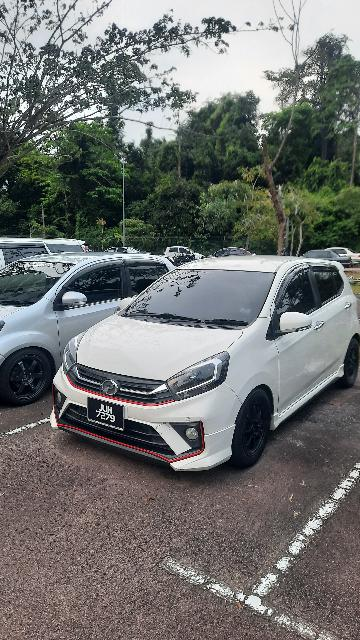License_Plate: (82, 391, 133, 435)
car: (46, 251, 360, 473)
